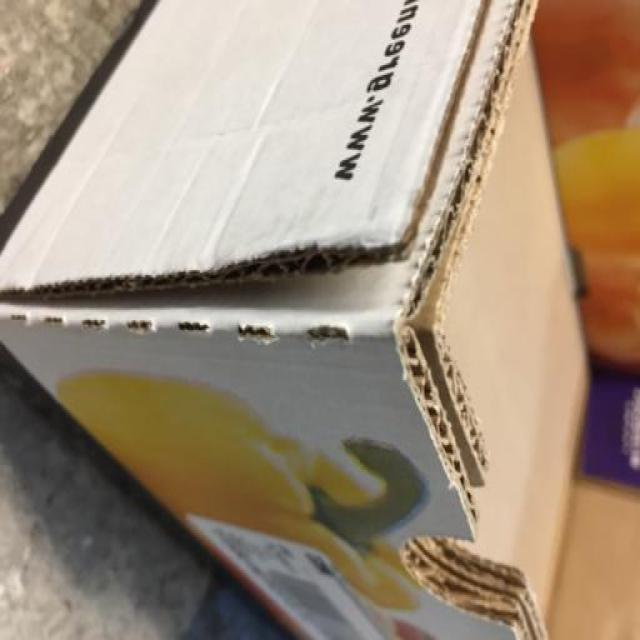cardboard: (0, 1, 639, 640)
